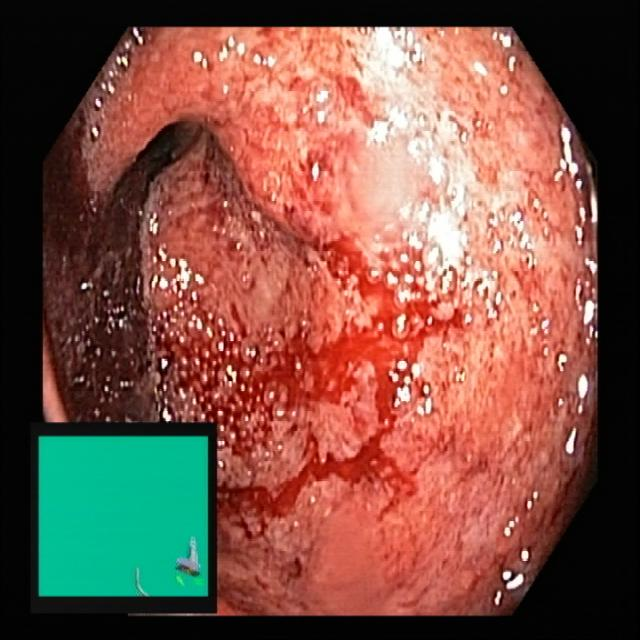ulcerative-colities: (36, 23, 598, 625)
